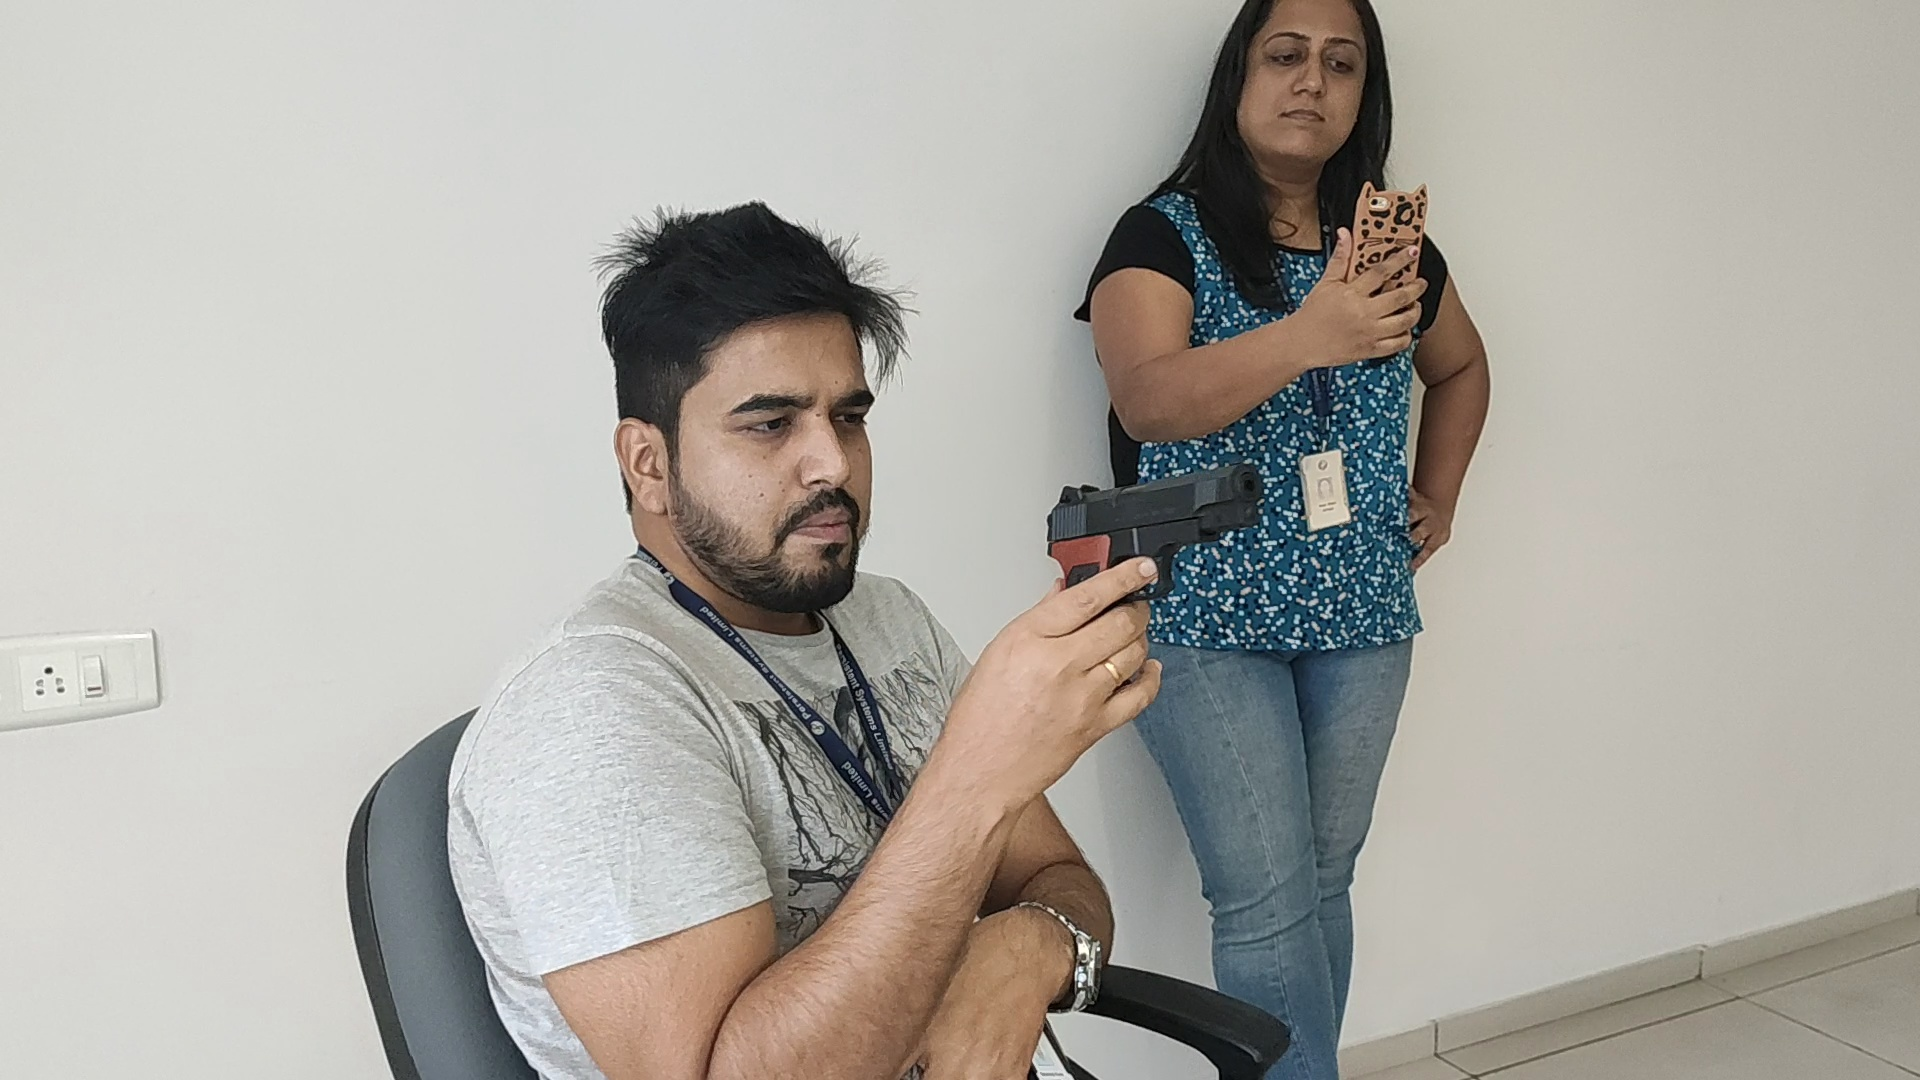gun: (1044, 463, 1263, 555)
